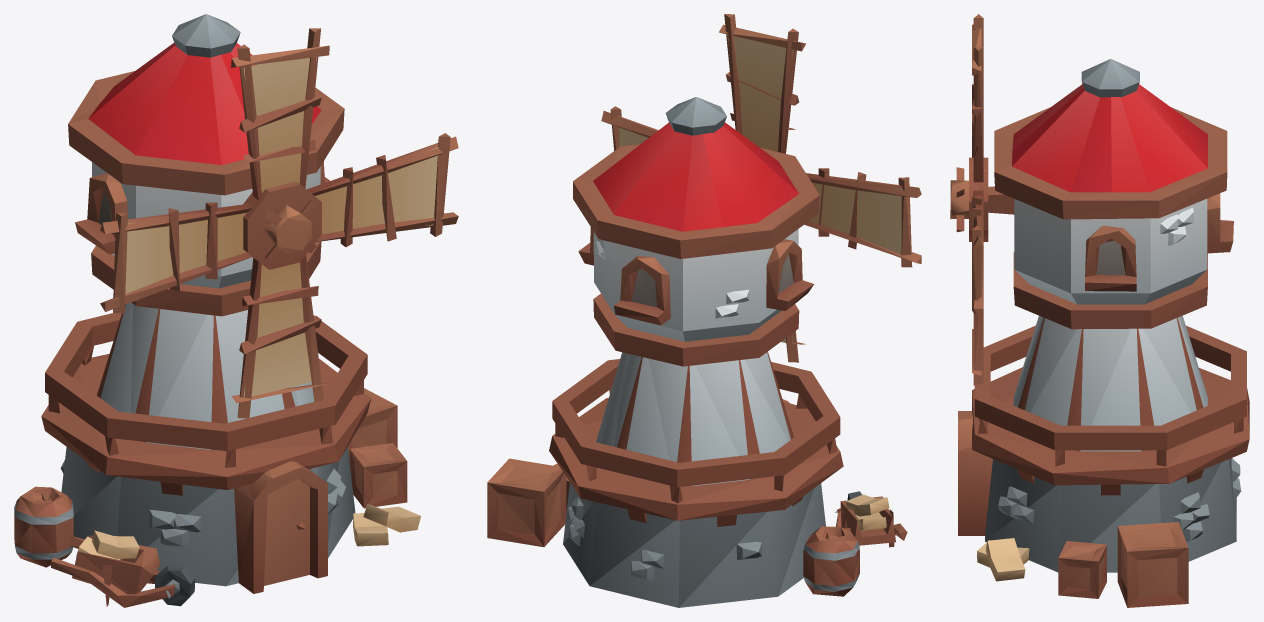
The model's file is windmill.glb.
The picture shows the model from 3 angles, left to right: view 1: azimuth 30°, elevation 25°; view 2: azimuth 150°, elevation 25°; view 3: azimuth 270°, elevation 25°; orthographic projection. The views are drawn at different scales.
Parts seen in each view (by area): view 1: windmill; view 2: windmill; view 3: windmill.
Part boxes in pixels (<box>): windmill: <box>14,14,458,607</box>; windmill: <box>487,14,921,607</box>; windmill: <box>950,14,1249,607</box>.
Size of the model in its own units: 5.61 by 7.29 by 4.06.
Materials: 1 (1 with a texture image).
